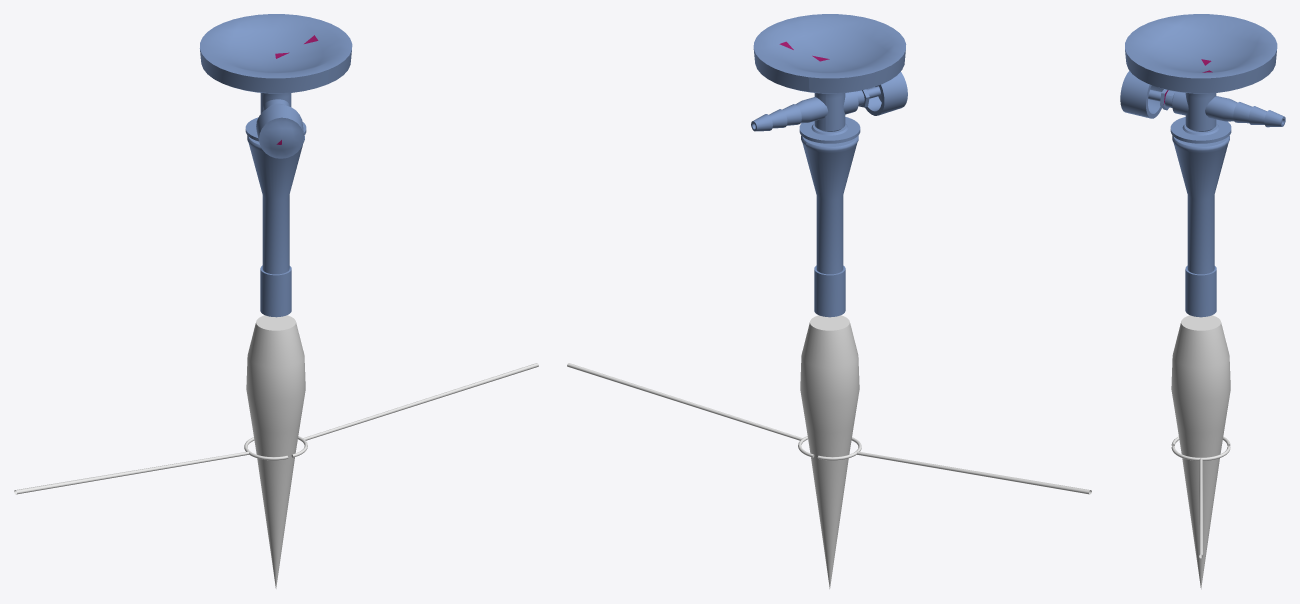
The model's file is Burner.fbx.
3 views of the same model, side by side, from view 1: azimuth 30°, elevation 25°; view 2: azimuth 150°, elevation 25°; view 3: azimuth 270°, elevation 25° (orthographic).
Visible parts, largest first — view 1: Fire_2, Fire, Claw_2, Claw_1; view 2: Fire_2, Fire, Claw_2, Claw_1; view 3: Fire_2, Fire, Claw_1.
Part boxes in pixels (x1,y1,x2,y2): Fire_2: [199, 14, 352, 317]; Fire: [246, 315, 305, 588]; Claw_2: [14, 437, 288, 494]; Claw_1: [291, 363, 538, 457]; Fire_2: [751, 14, 907, 317]; Fire: [800, 315, 859, 588]; Claw_2: [817, 437, 1091, 494]; Claw_1: [567, 363, 814, 457]; Fire_2: [1120, 14, 1285, 317]; Fire: [1171, 315, 1230, 589]; Claw_1: [1171, 446, 1230, 558].
Bounding box in the file's own units: 6.13 × 6.09 × 1.68.
